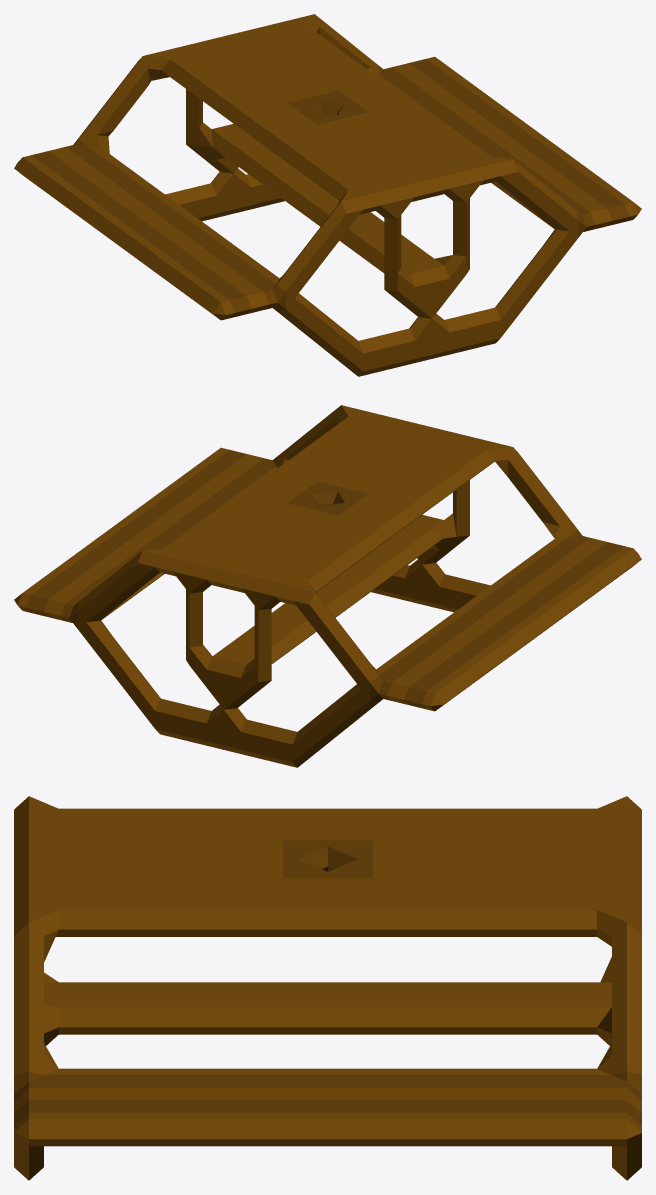
File: rc_picnictable.fbx
3 renders of one model, top to bottom at view 1: azimuth 30°, elevation 25°; view 2: azimuth 150°, elevation 25°; view 3: azimuth 270°, elevation 25°, orthographic. The views are drawn at different scales.
Parts seen in each view (by area): view 1: rc_table; view 2: rc_table; view 3: rc_table.
Part boxes in pixels (left/top/right/bottom): rc_table: left=14, top=14, right=641, bottom=376; rc_table: left=14, top=405, right=641, bottom=767; rc_table: left=14, top=796, right=641, bottom=1180.
Size of the model in its own units: 2500 by 1000 by 2100.
